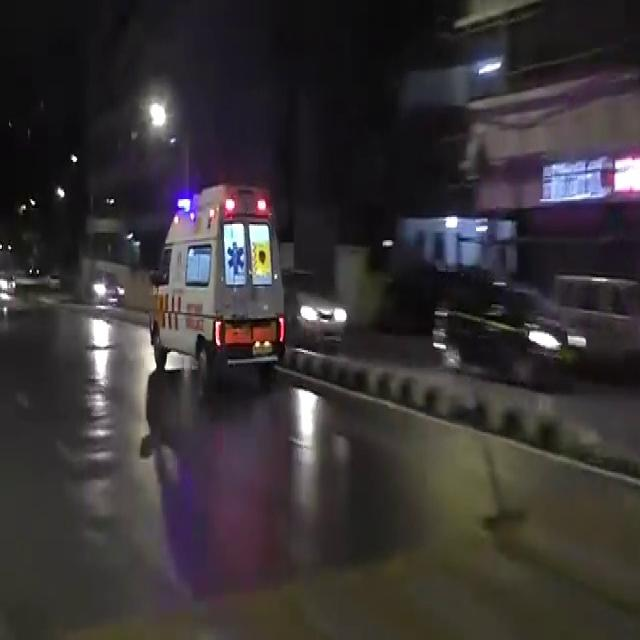ambulance: (140, 195, 306, 366)
